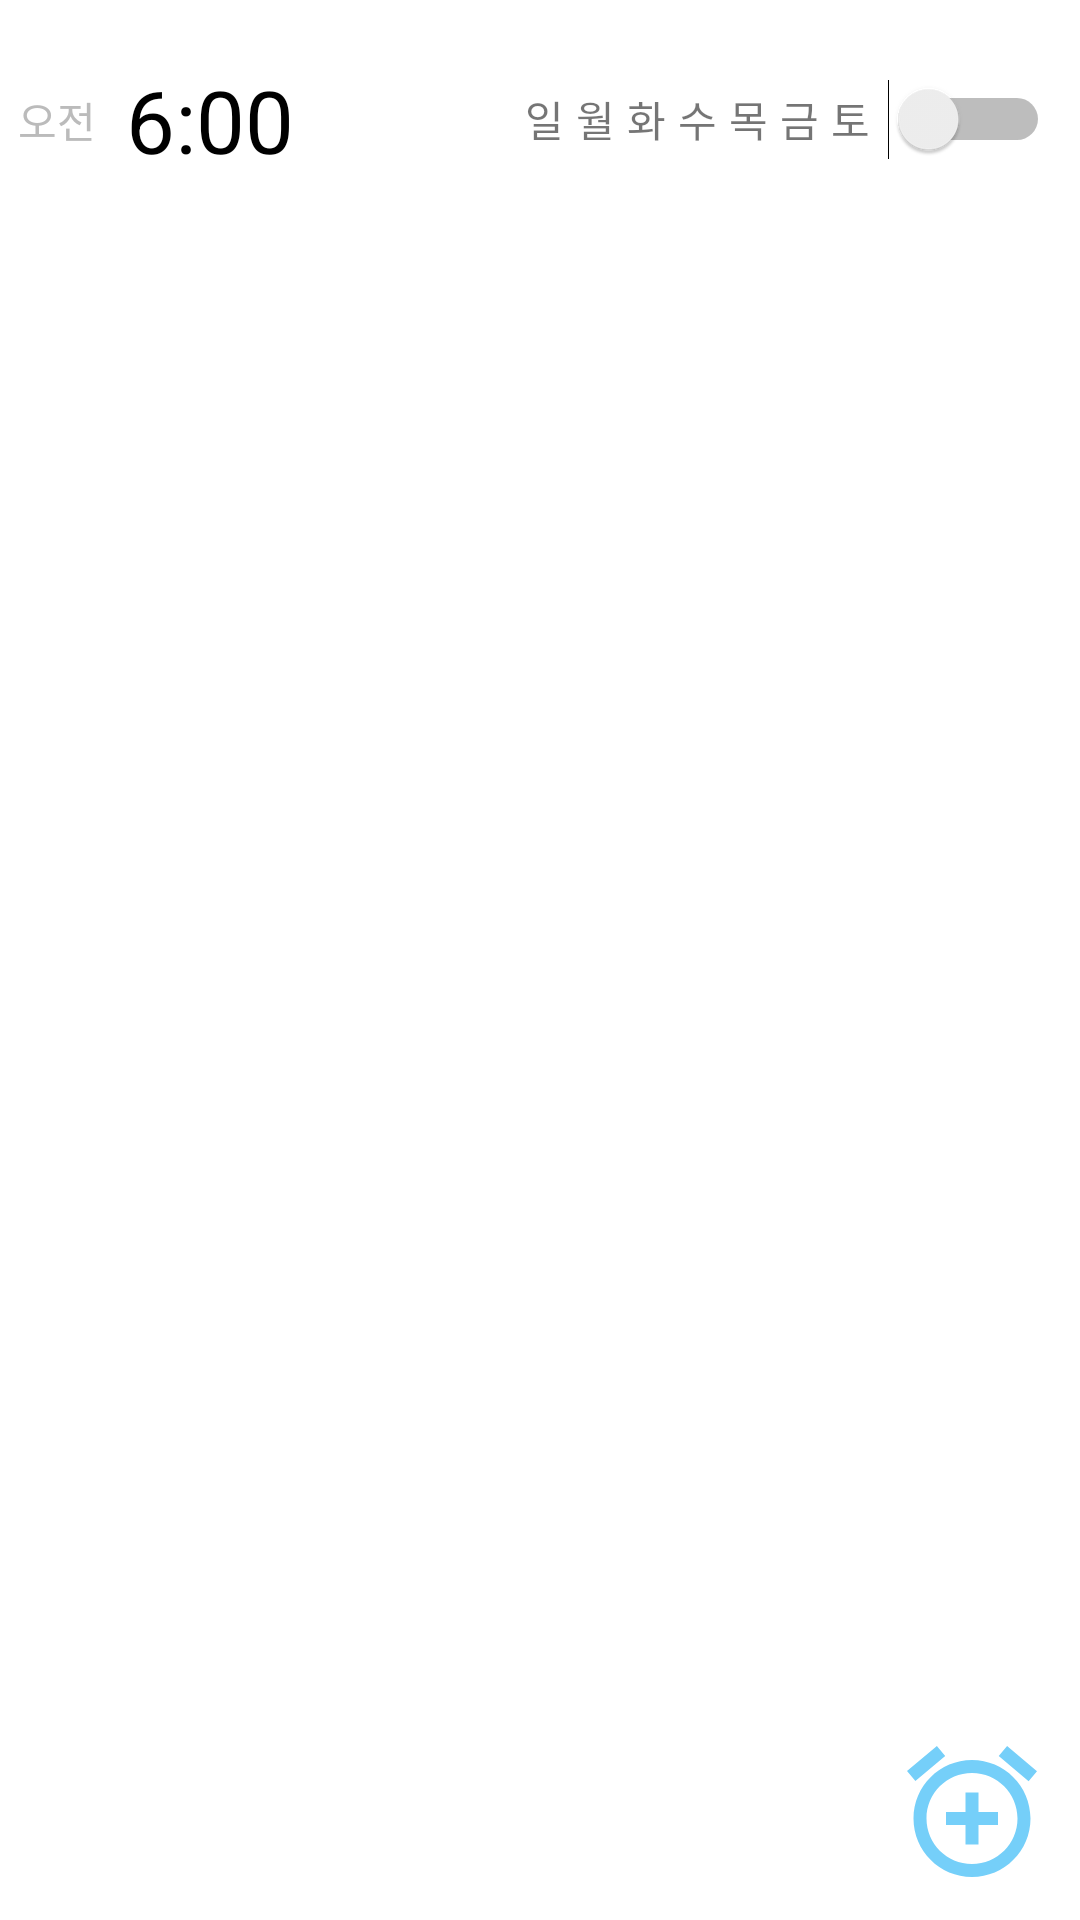

Locate icon controls on the screen. Image size 1080*1920, boxes as detection(x1, y1, x2, y2).
add alarm: detection(907, 1746, 1037, 1877)
